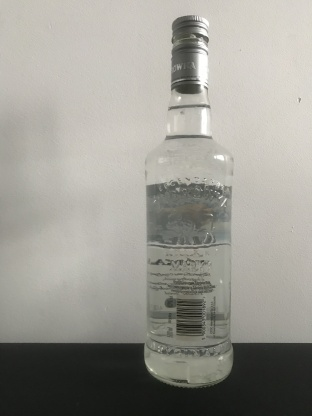nakretka: (169, 13, 210, 94)
